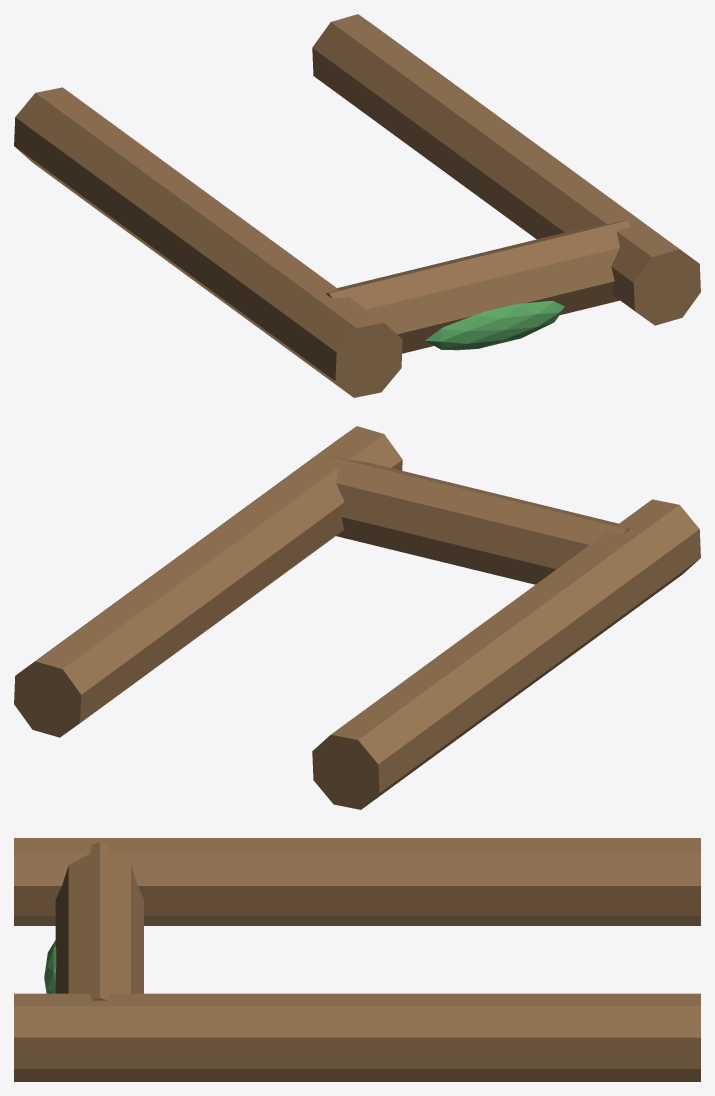
The model's file is forest_giant_root_arch.glb.
3 renders of one model, top to bottom at view 1: azimuth 30°, elevation 25°; view 2: azimuth 150°, elevation 25°; view 3: azimuth 270°, elevation 25°, orthographic. The views are drawn at different scales.
Parts seen in each view (by area): view 1: root_left, root_right, root_top, moss; view 2: root_left, root_right, root_top; view 3: root_right, root_left, root_top, moss.
Boxes of the visible parts, x1,y1,x2,y2 form: root_left: (14,87,402,397); root_right: (312,14,700,325); root_top: (325,220,630,353); moss: (425,301,564,350); root_left: (312,499,700,809); root_right: (14,426,402,737); root_top: (325,456,630,584); root_right: (14,993,700,1081); root_left: (14,838,700,925); root_top: (55,842,143,1000); moss: (44,940,56,993).
Bounding box in the file's own units: 1.84 × 0.36 × 2.8.
